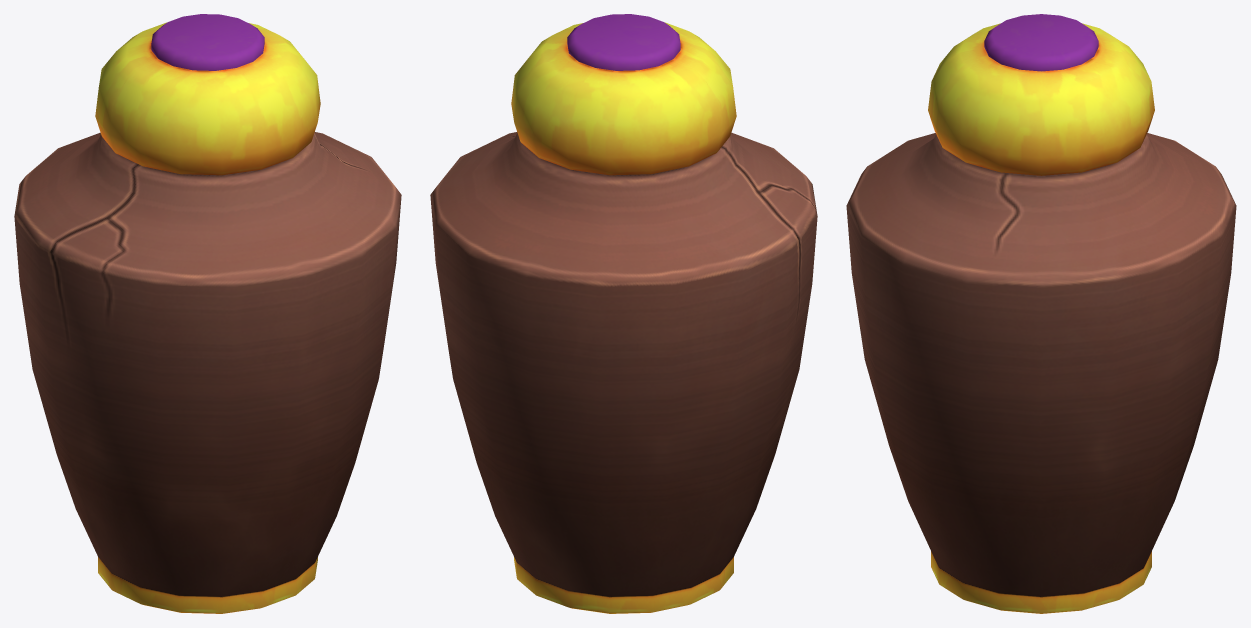
Rendered from SM_Urn.fbx.
3 views of the same model, side by side, from view 1: azimuth 30°, elevation 25°; view 2: azimuth 150°, elevation 25°; view 3: azimuth 270°, elevation 25° (orthographic).
Visible parts, largest first — view 1: SM_Urn_LOD0; view 2: SM_Urn_LOD0; view 3: SM_Urn_LOD0.
Part boxes in pixels (x1=…): SM_Urn_LOD0: x1=14, y1=14, x2=401, y2=613; SM_Urn_LOD0: x1=430, y1=14, x2=817, y2=613; SM_Urn_LOD0: x1=846, y1=14, x2=1236, y2=613.
Size of the model in its own units: 20.69 by 20.69 by 31.27.
1 material, 1 textured.
